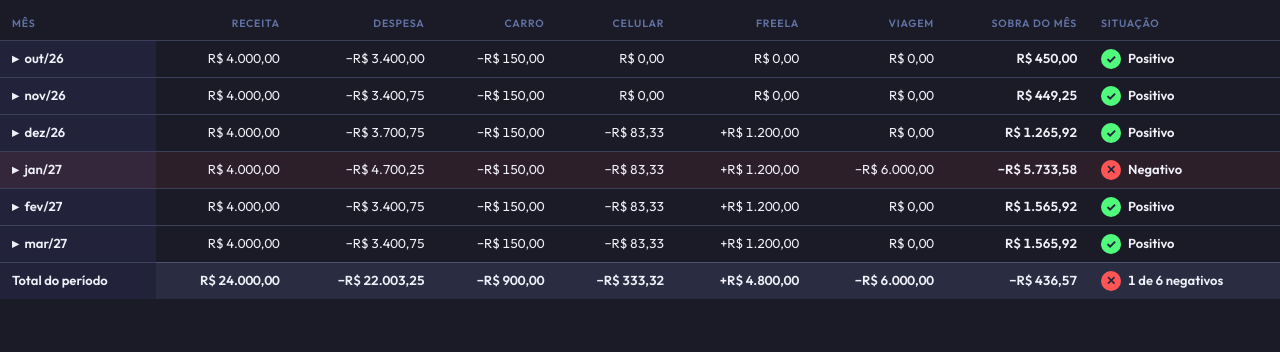
Test: MonthlyTable (gêmea do gráfico) › detalhe expansível: fixos e parcelas x demais despesas
The image size is (1280, 352).
Expected: the text "Fixos e parcelas" is not shown
Step 1. Click the button with aria-label "Detalhe de nov/26" → (39, 96), box [8,84,70,108]
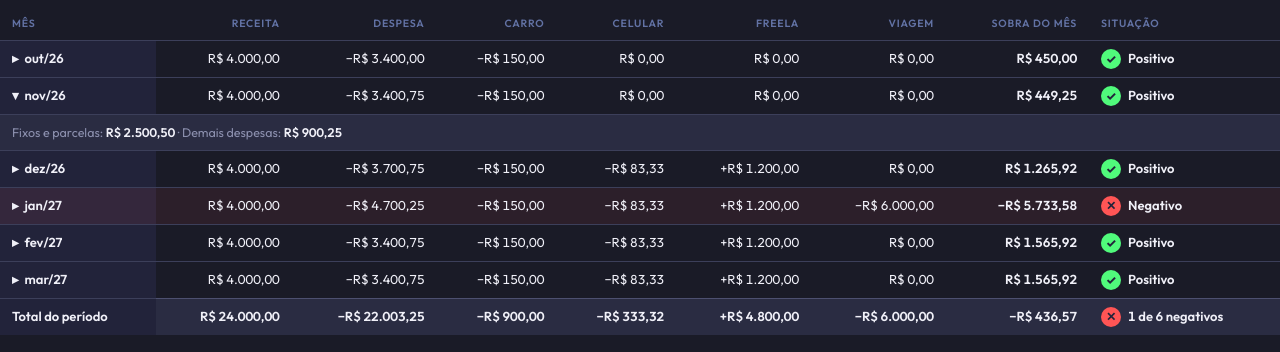
Expected: the button with aria-label "Detalhe de nov/26" is expanded
Expected: the text "Fixos e parcelas: R$ 2.500,50 · Demais despesas: R$ 900,25" is shown, [12,124,342,140]
Step 2. Click the button with aria-label "Detalhe de nov/26" → (39, 96), box [8,84,70,108]
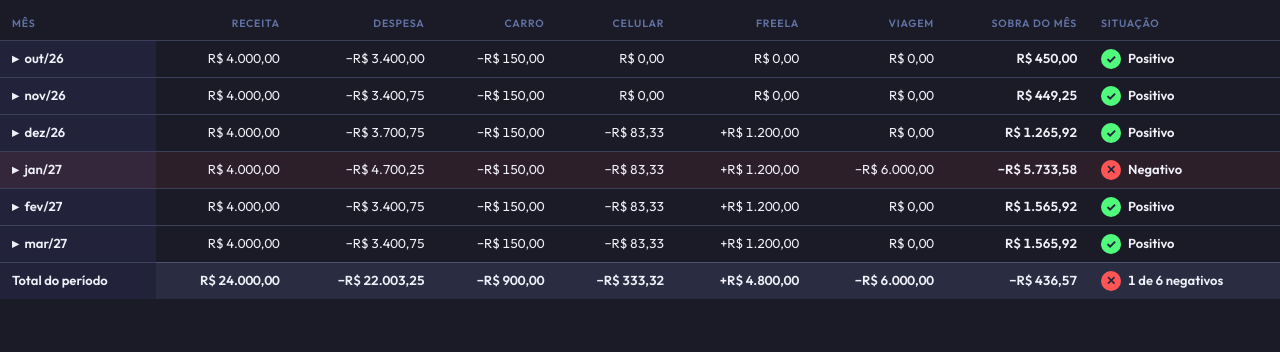
Expected: the text "Fixos e parcelas" is gone
